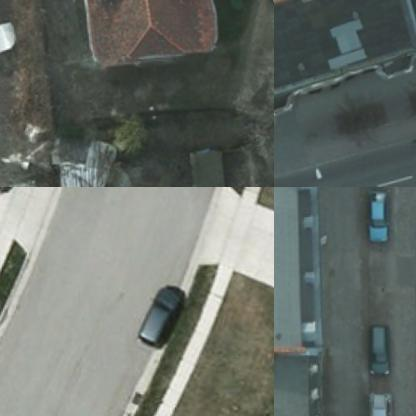car: (136, 277, 186, 346), (362, 187, 393, 242), (366, 318, 396, 372)
van: (368, 386, 399, 415)
